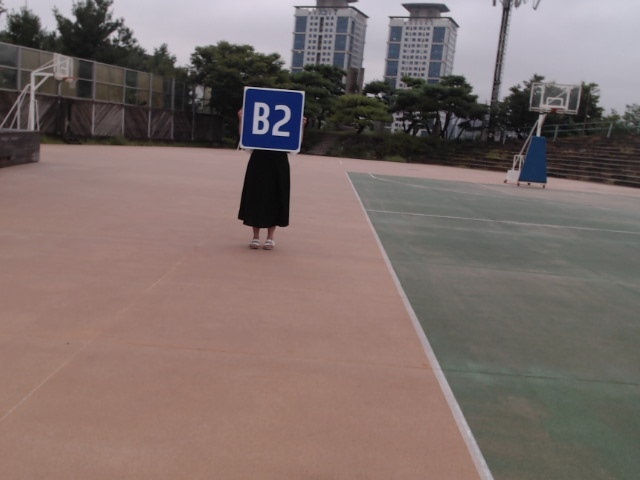delivery_b2: (241, 89, 304, 152)
